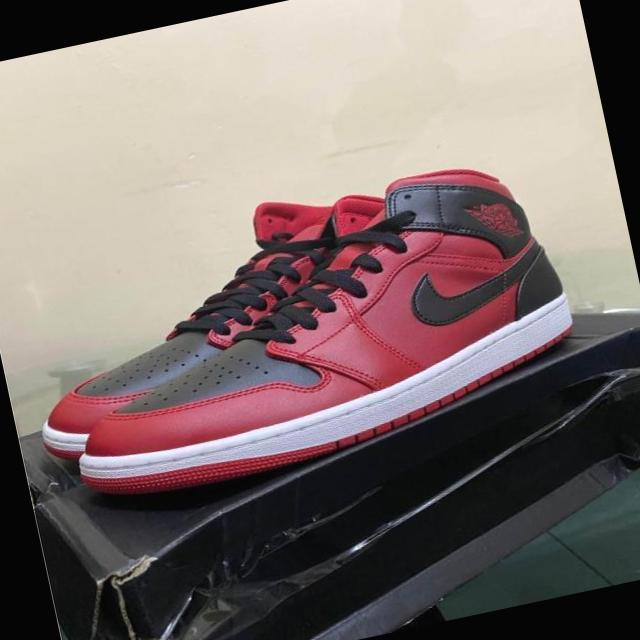nike_original_jordan: (27, 144, 596, 516), (2, 176, 425, 467)
